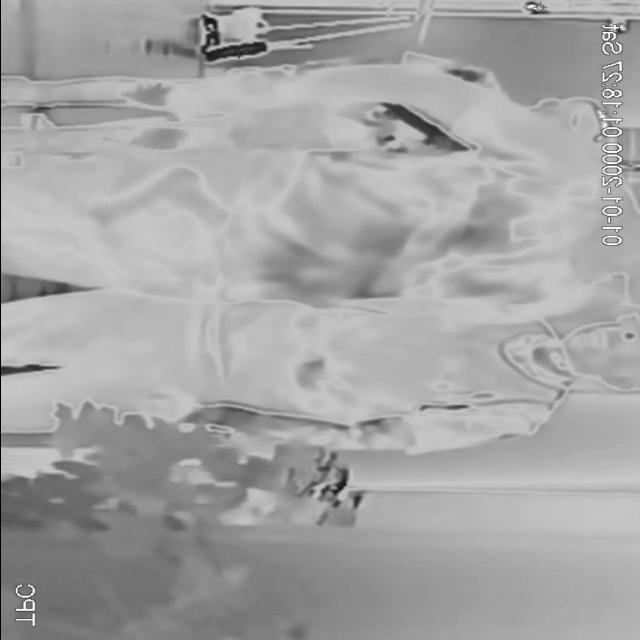Weapon: (80, 144, 237, 278)
